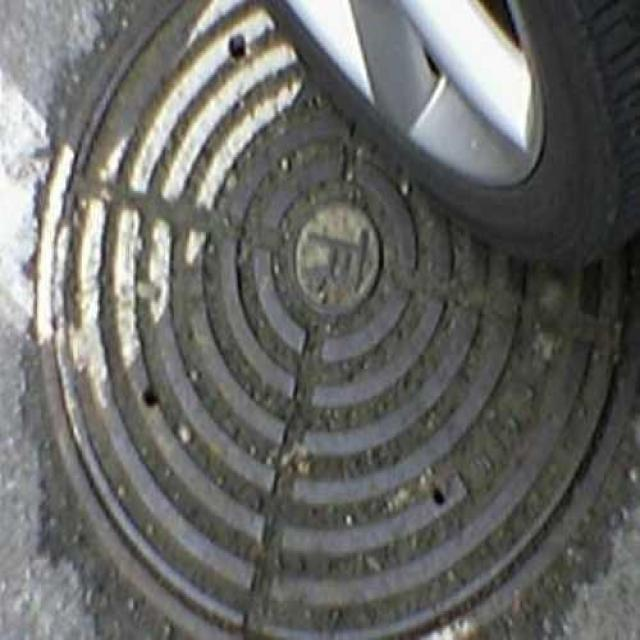manhole: (35, 3, 629, 636)
